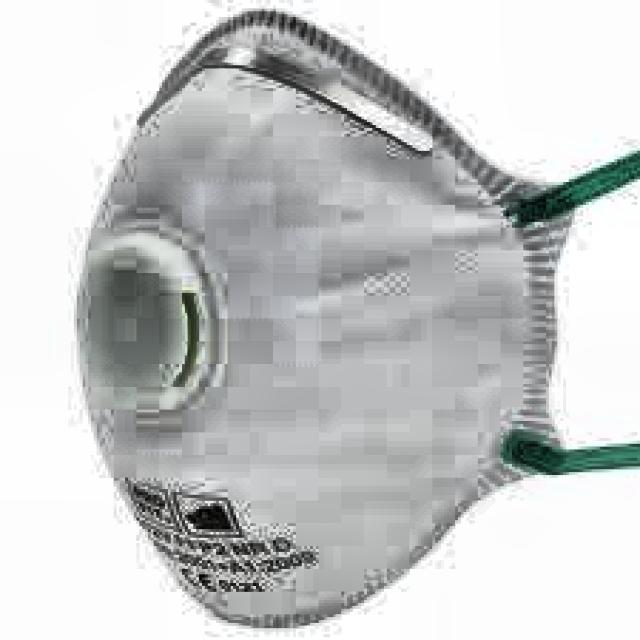trash: (73, 10, 640, 637)
